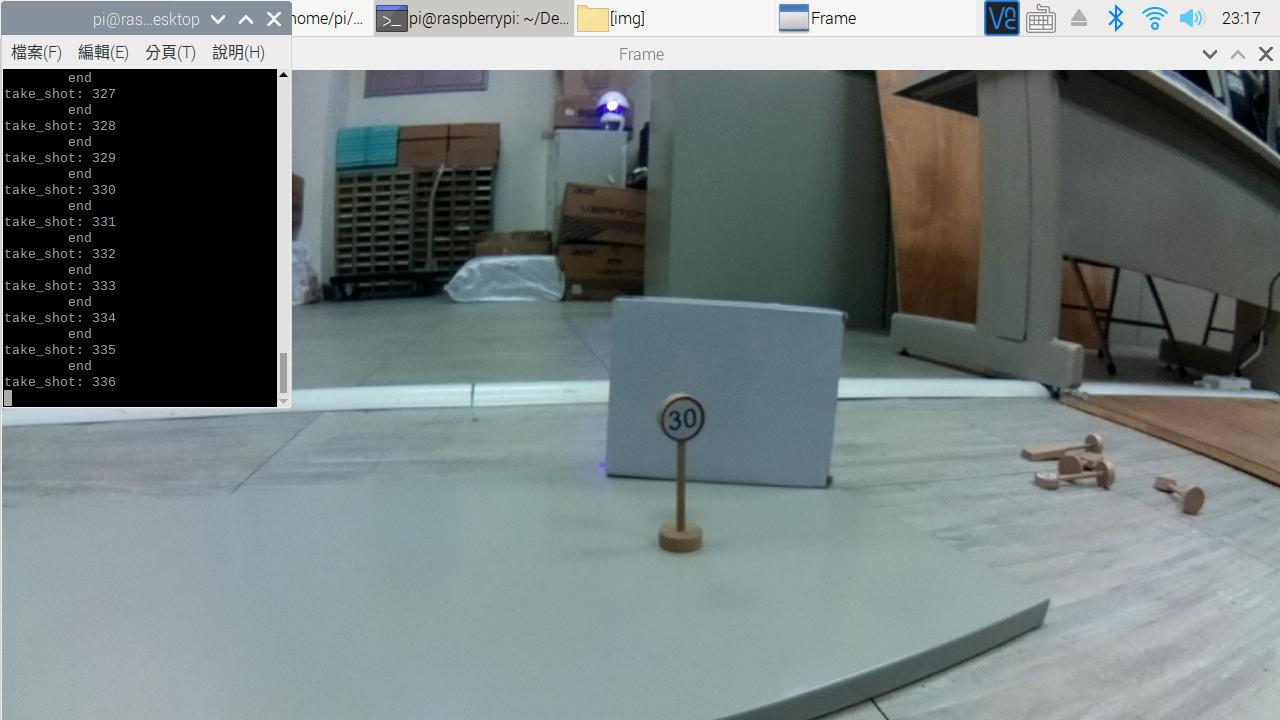Speed30: (647, 388, 714, 461)
